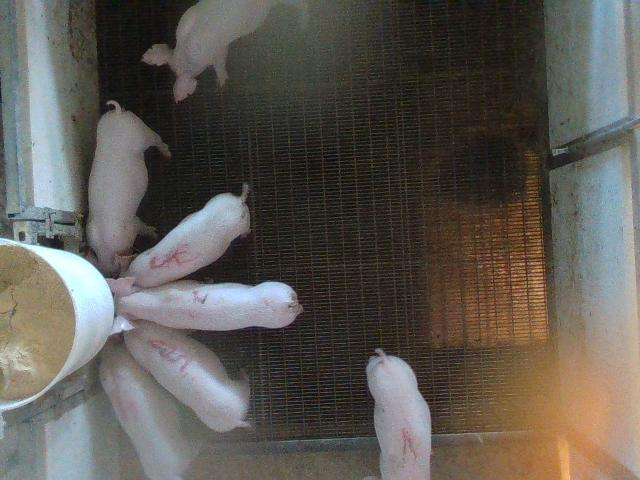pig-1: (366, 349, 430, 478)
pig-3: (124, 320, 250, 432)
pig-4: (100, 335, 205, 479)
pig-5: (115, 185, 250, 288)
